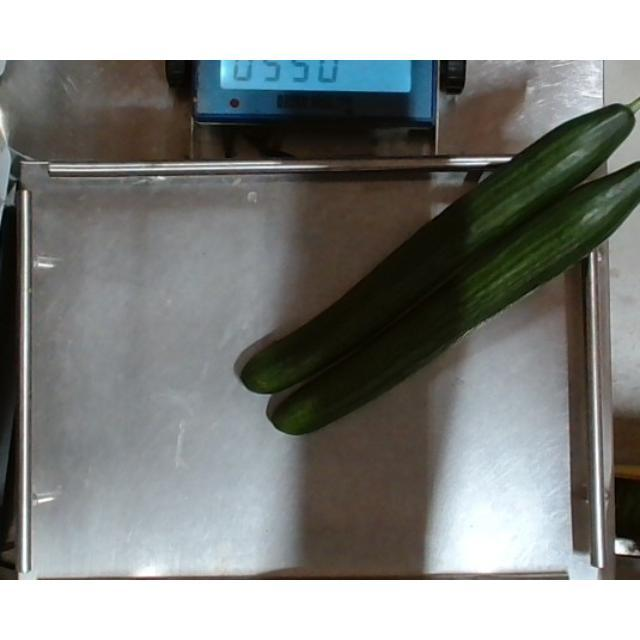cucumber: (236, 92, 640, 396), (262, 160, 640, 438)
